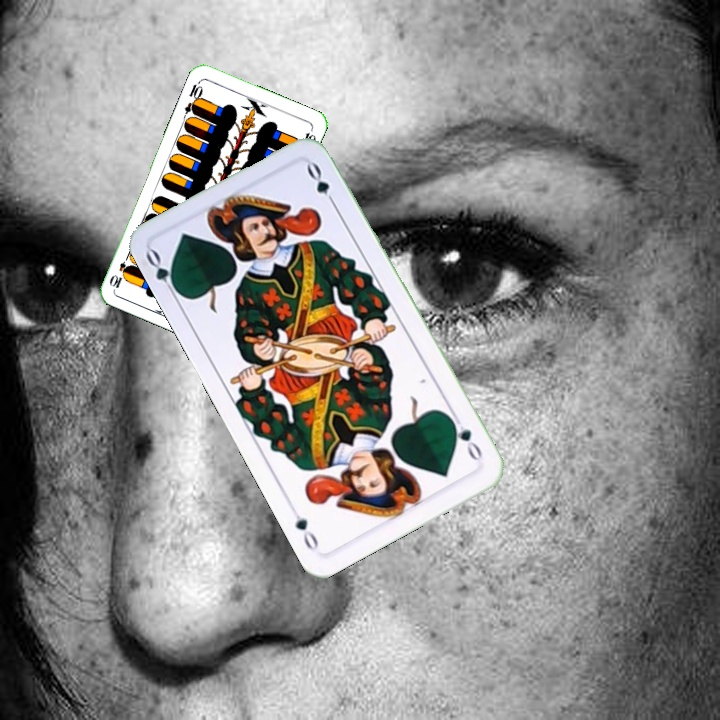E10: (180, 77, 206, 117)
GO: (141, 246, 184, 301), (446, 413, 485, 465)
